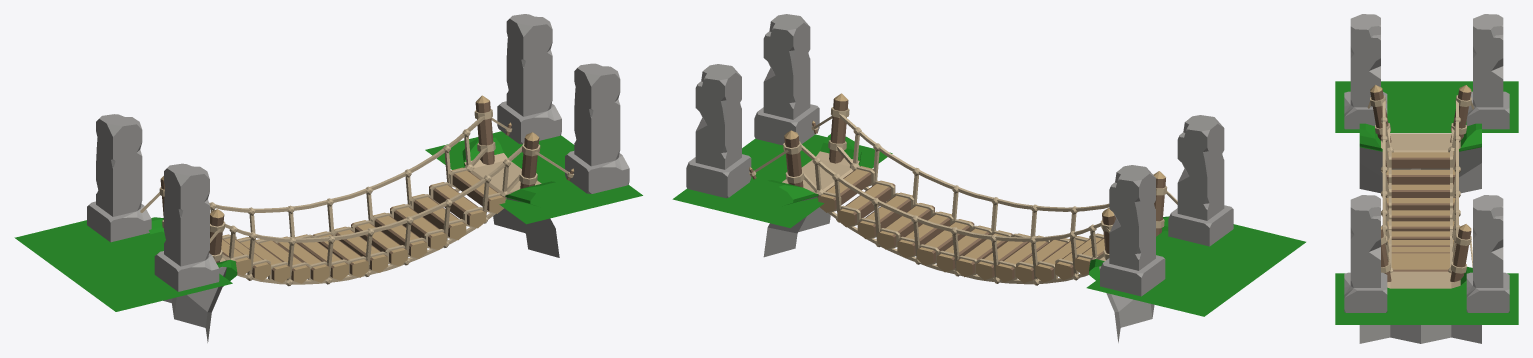
Rendered from bridge.obj.
3 renders of one model, left to right at view 1: azimuth 30°, elevation 25°; view 2: azimuth 150°, elevation 25°; view 3: azimuth 270°, elevation 25°, orthographic. The views are drawn at different scales.
Visible parts, largest first — view 1: mergedBlocks; view 2: mergedBlocks; view 3: mergedBlocks.
Boxes of the visible parts, left/top/right/bottom form: mergedBlocks: left=14, top=14, right=642, bottom=342; mergedBlocks: left=672, top=14, right=1305, bottom=342; mergedBlocks: left=1335, top=14, right=1518, bottom=343.
Size of the model in its own units: 9 by 2.9 by 3.
